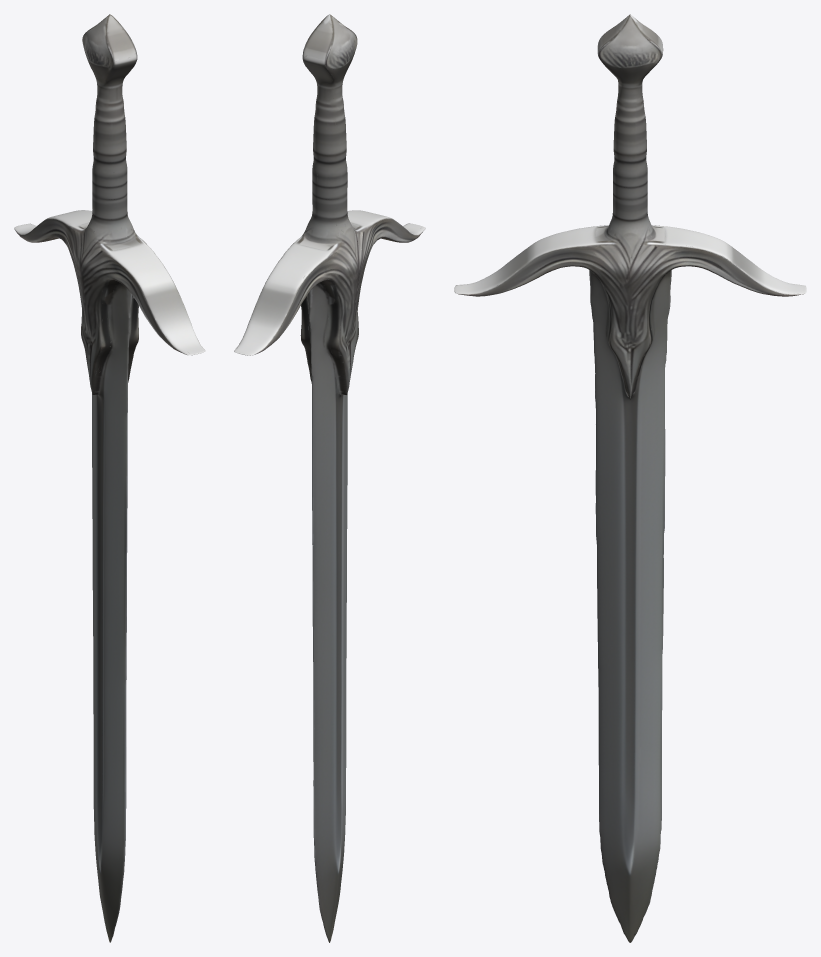
Rendered from Sword 03.fbx.
3 views of the same model, side by side, from view 1: azimuth 30°, elevation 25°; view 2: azimuth 150°, elevation 25°; view 3: azimuth 270°, elevation 25° (orthographic).
Parts seen in each view (by area): view 1: Sword 03; view 2: Sword 03; view 3: Sword 03.
Part boxes in pixels (<box>): Sword 03: <box>14,14,205,942</box>; Sword 03: <box>234,14,425,942</box>; Sword 03: <box>454,14,806,942</box>.
Size of the model in its own units: 12.28 by 189 by 64.97.
Materials: 1 (1 with a texture image).
